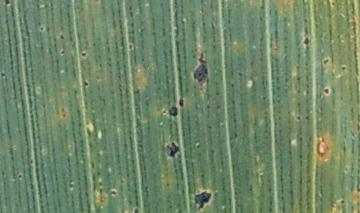tarspot: (193, 52, 209, 87), (193, 191, 211, 208), (165, 143, 178, 157), (177, 96, 185, 108), (169, 108, 179, 117), (126, 41, 135, 50), (302, 36, 310, 46), (81, 79, 90, 87), (108, 187, 117, 195), (322, 86, 330, 95), (38, 24, 46, 33), (340, 63, 348, 72), (321, 57, 331, 64), (58, 34, 67, 40), (339, 197, 345, 205), (60, 46, 65, 55), (80, 51, 87, 57), (1, 73, 8, 79), (67, 181, 74, 187), (296, 115, 302, 121), (17, 173, 23, 179), (4, 1, 11, 6), (133, 208, 138, 213)
